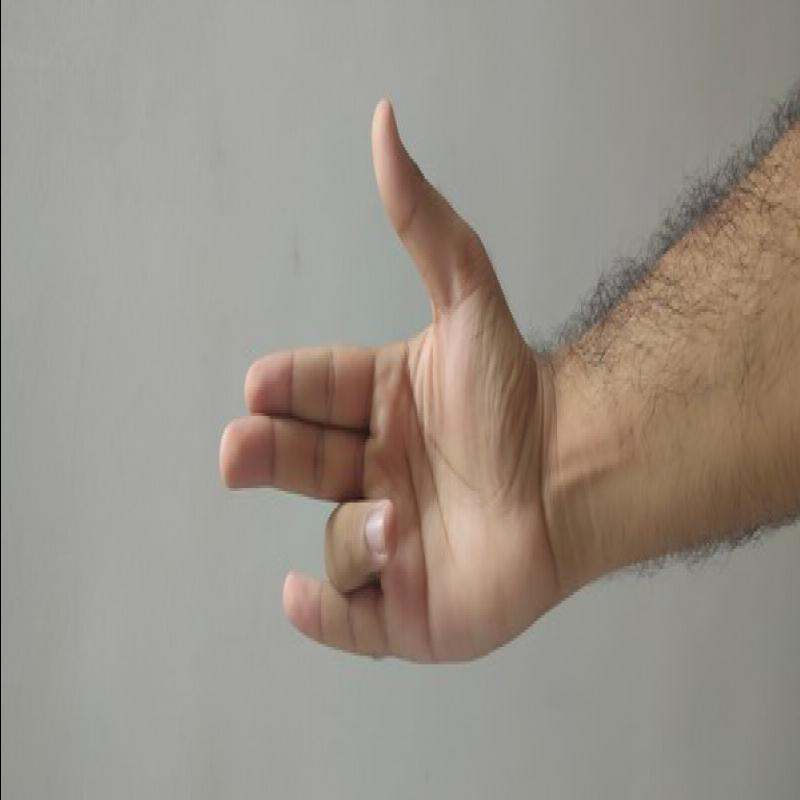Pathaaka: (207, 88, 541, 684)
